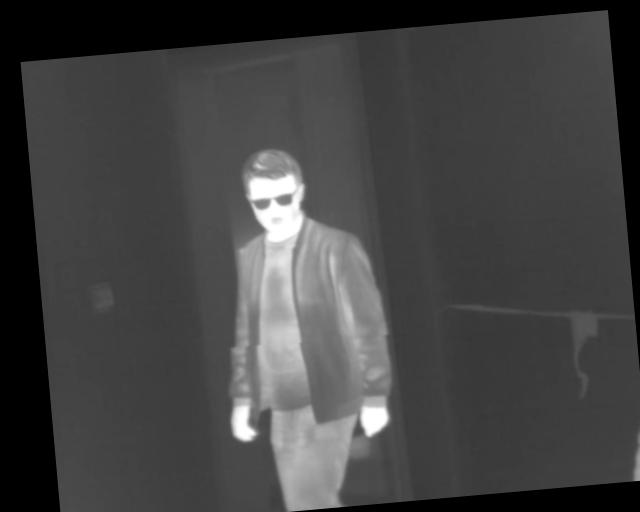face: (239, 144, 309, 236)
